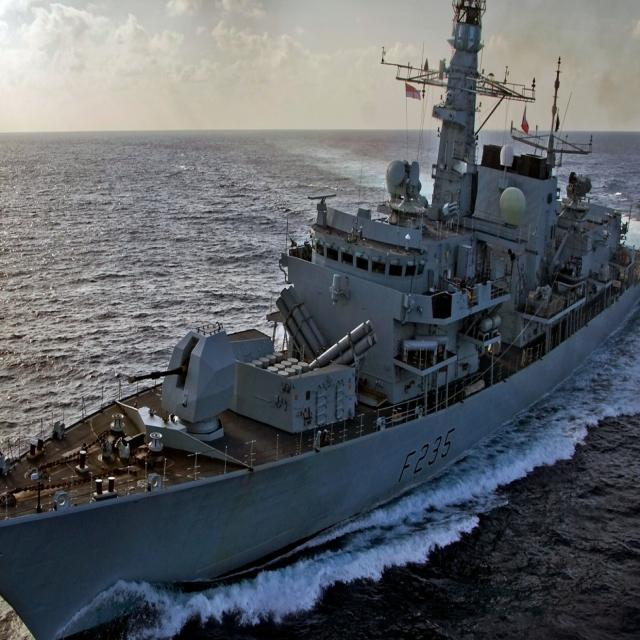Fragata: (1, 1, 433, 640)
